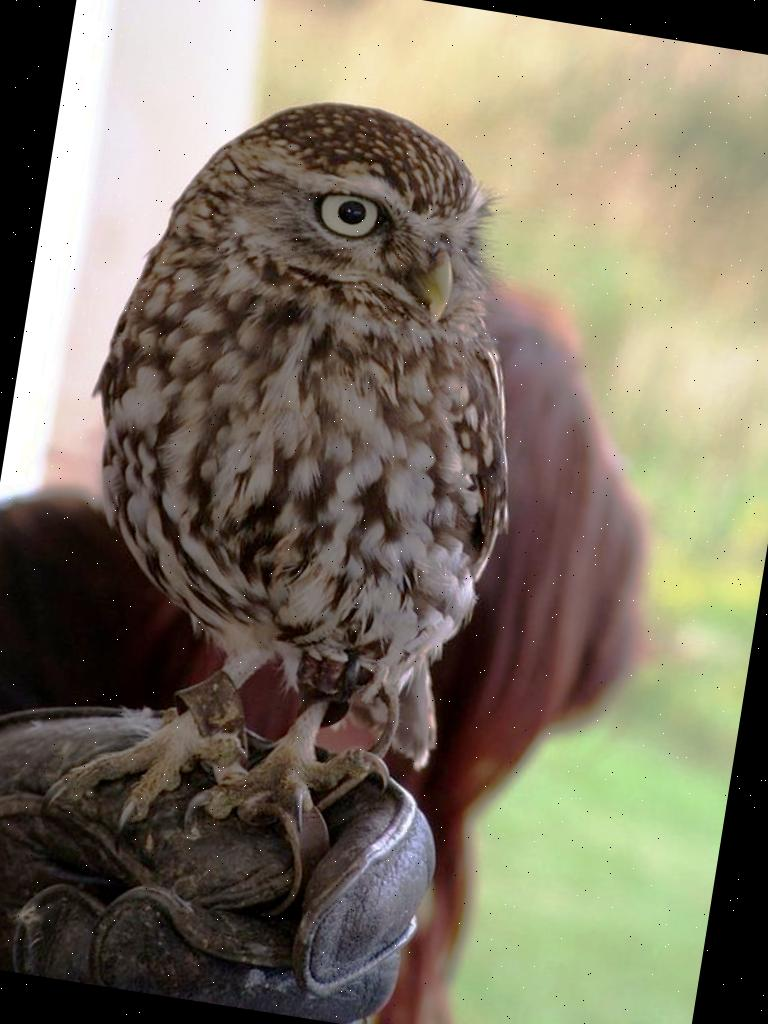Owl: (37, 52, 568, 870)
